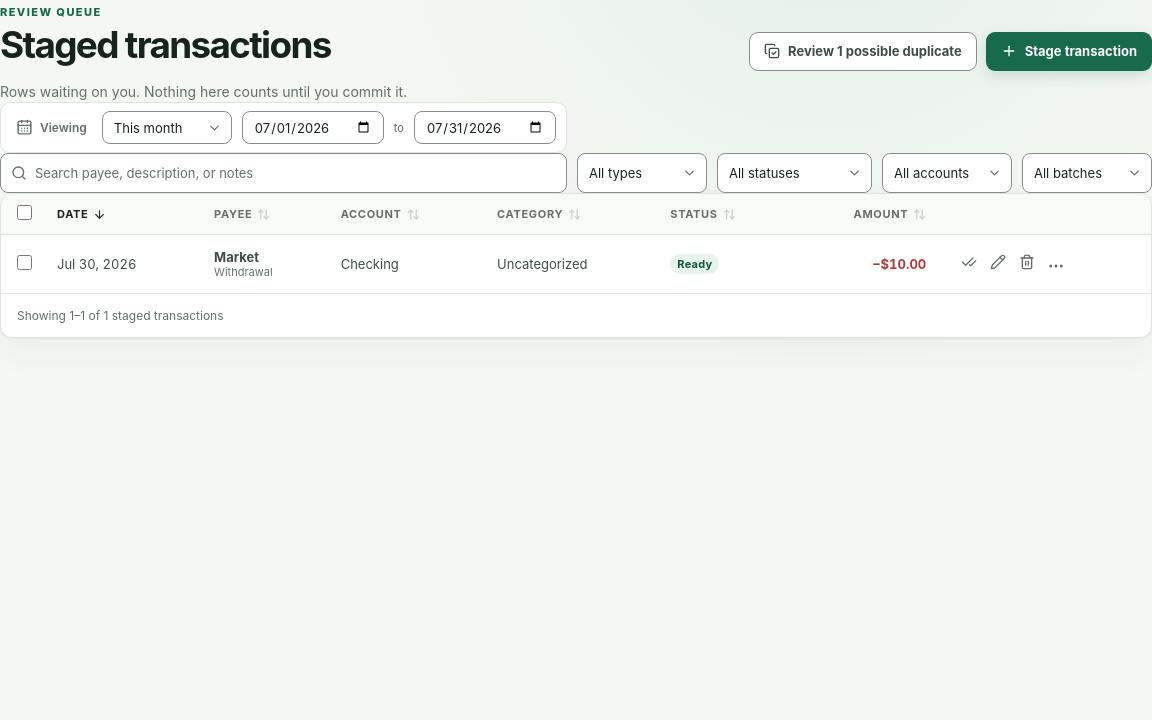
Test: editing staged rows in bulk › refuses to submit nothing
Expected: the text "Market" is shown, top-left (214, 249), bottom-right (259, 265)
Click the checkbox named "Select Market": [24, 263] box top-left (16, 255), bottom-right (32, 270)
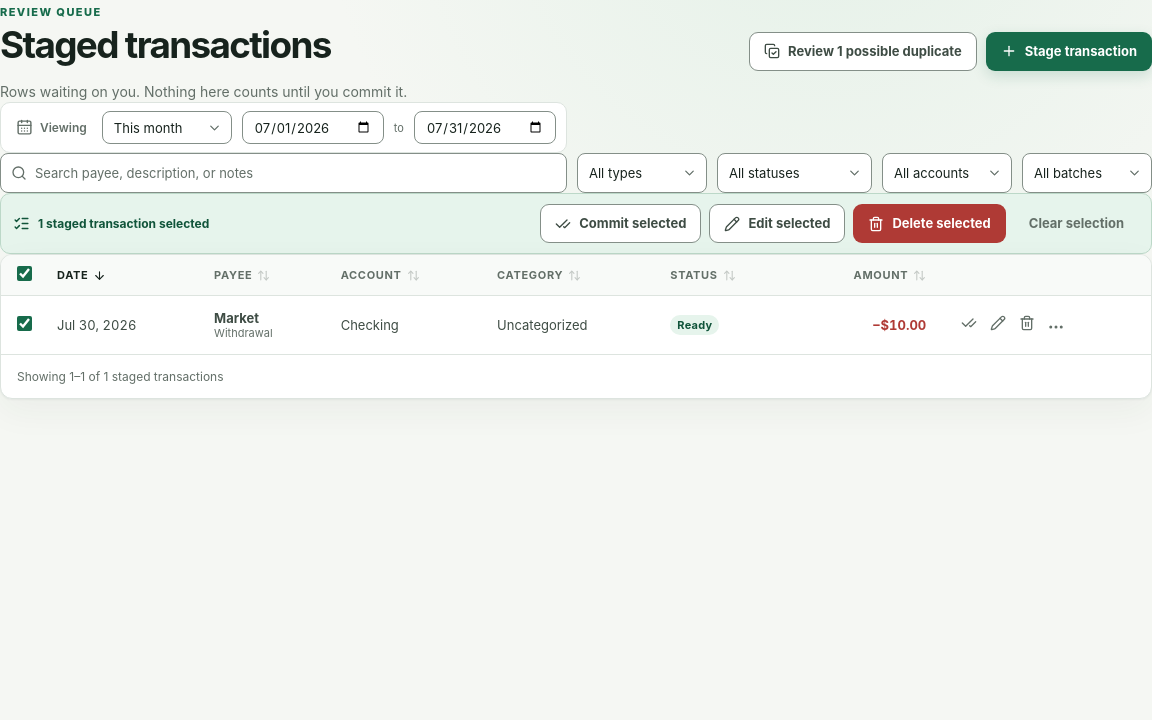
Click the button "Edit selected": [777, 224] box top-left (709, 204), bottom-right (845, 243)
(page scrolled)
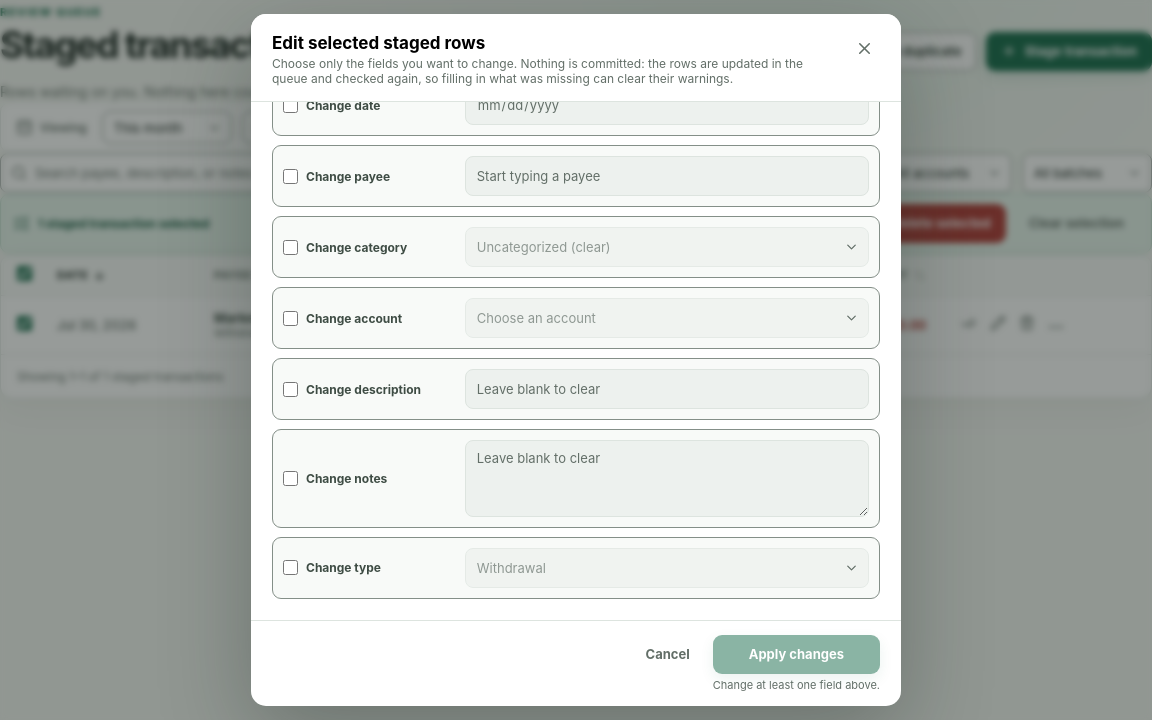
Expected: the button "Apply changes" is disabled, top-left (713, 634), bottom-right (880, 674)
